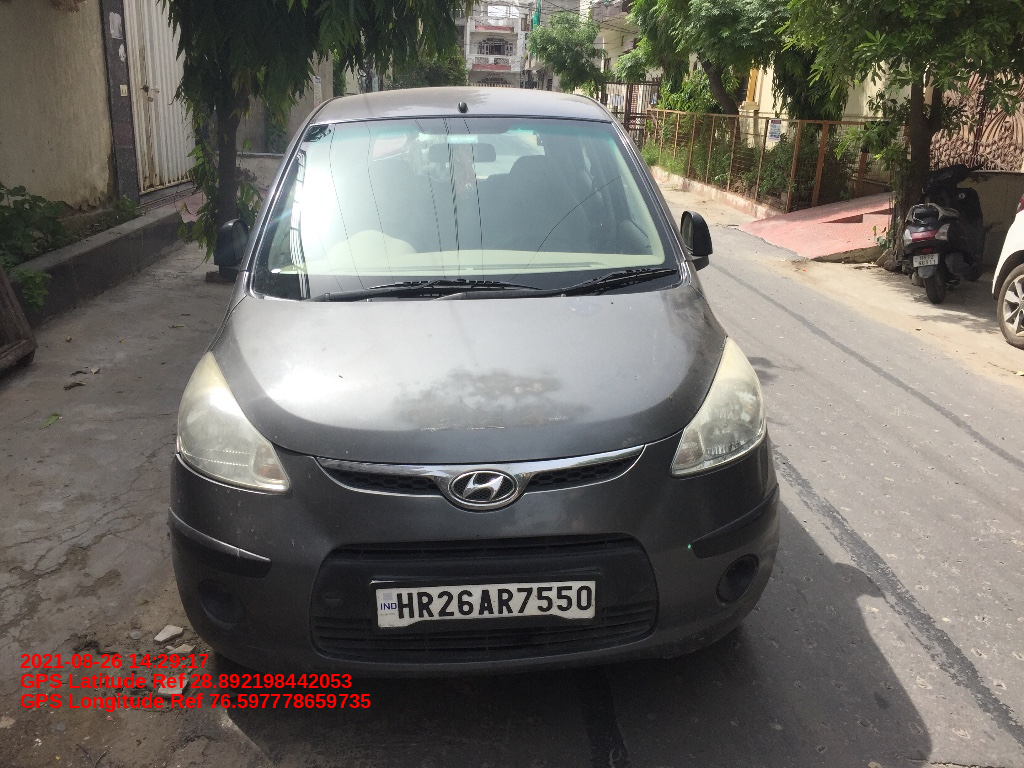Scratched: (416, 421, 513, 439)
